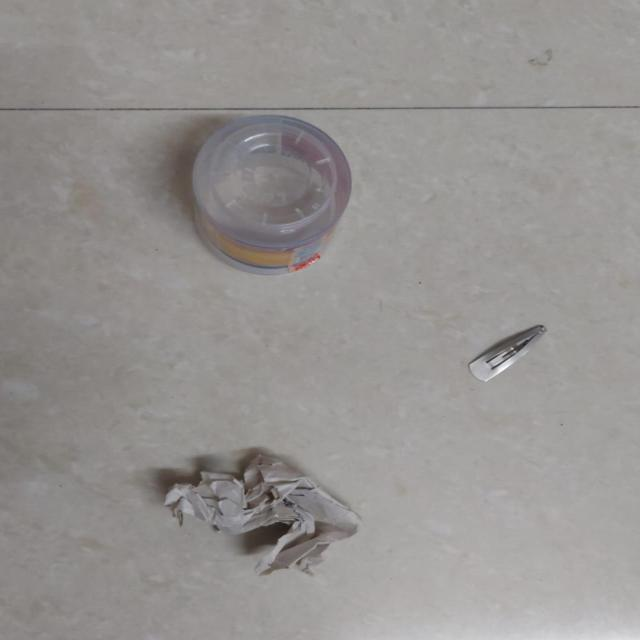metal: (467, 324, 550, 384)
paper: (163, 451, 362, 577)
plastic: (187, 112, 354, 273)
